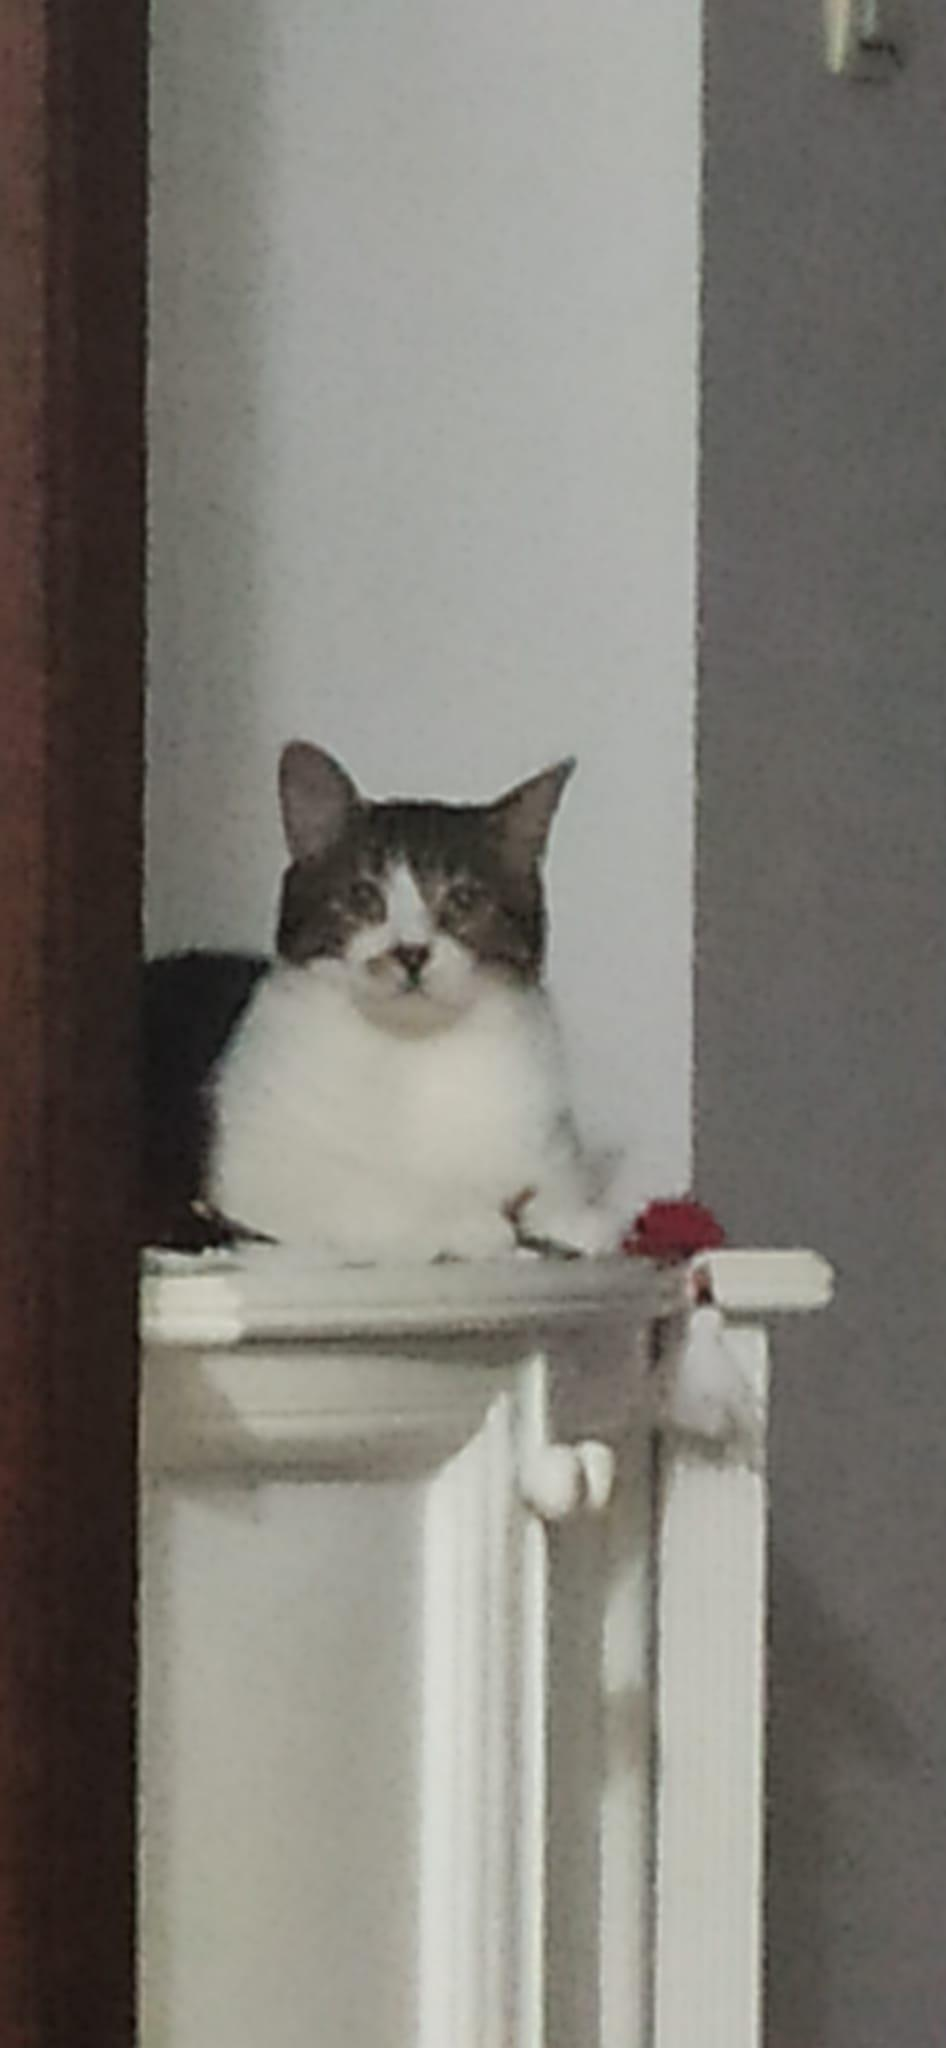kedo: (157, 741, 617, 1253)
